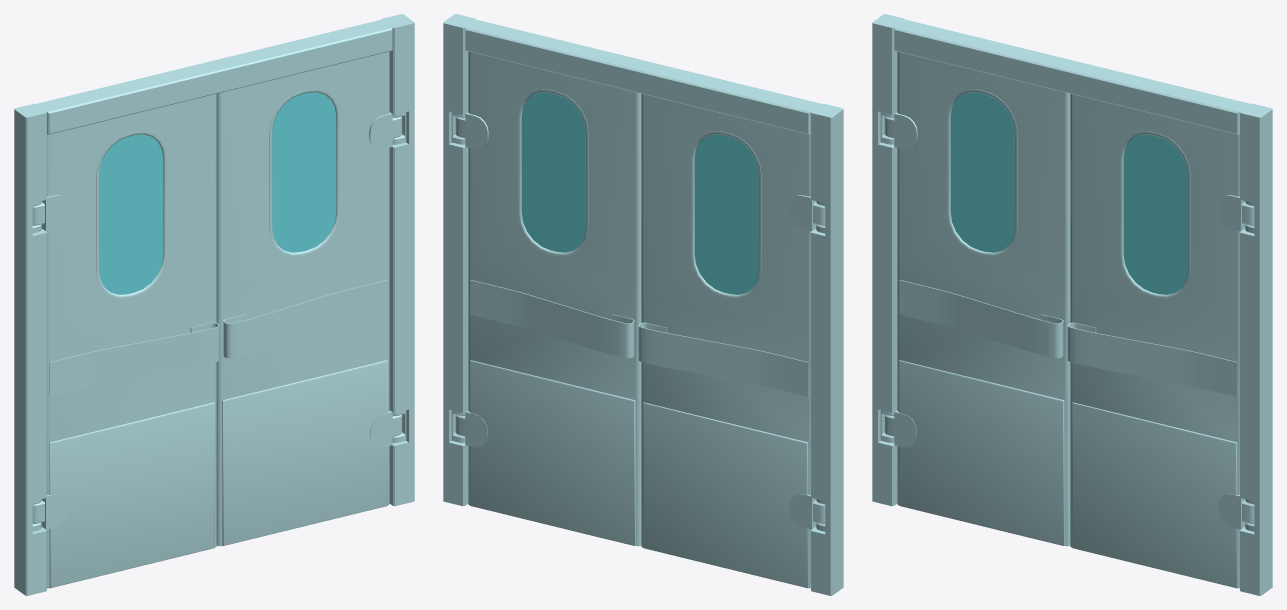
File: kitchen_interior_door_Frame_2.fbx
3 renders of one model, left to right at view 1: azimuth 30°, elevation 25°; view 2: azimuth 150°, elevation 25°; view 3: azimuth 330°, elevation 25°, orthographic.
Visible parts, largest first — view 1: kitchen_interior_door_1_1, kitchen_interior_door_1_2, kitchen_interior_door_Frame_2, kitchen_interior_door_1_2_glass, kitchen_interior_door_1_1_glass; view 2: kitchen_interior_door_1_1, kitchen_interior_door_1_2, kitchen_interior_door_Frame_2, kitchen_interior_door_1_2_glass, kitchen_interior_door_1_1_glass; view 3: kitchen_interior_door_1_2, kitchen_interior_door_1_1, kitchen_interior_door_Frame_2, kitchen_interior_door_1_1_glass, kitchen_interior_door_1_2_glass.
Part boxes in pixels (x1,y1,x2,y2): kitchen_interior_door_1_1: (216,51,402,546); kitchen_interior_door_1_2: (32,94,219,588); kitchen_interior_door_Frame_2: (14,14,414,595); kitchen_interior_door_1_2_glass: (99,134,163,294); kitchen_interior_door_1_1_glass: (272,92,336,252); kitchen_interior_door_1_1: (455,51,641,546); kitchen_interior_door_1_2: (638,94,825,588); kitchen_interior_door_Frame_2: (443,14,843,595); kitchen_interior_door_1_2_glass: (694,134,758,294); kitchen_interior_door_1_1_glass: (521,92,585,252); kitchen_interior_door_1_2: (884,51,1070,546); kitchen_interior_door_1_1: (1067,94,1254,588); kitchen_interior_door_Frame_2: (872,14,1272,595); kitchen_interior_door_1_1_glass: (1123,134,1187,294); kitchen_interior_door_1_2_glass: (950,92,1014,252).
Size of the model in its own units: 176 by 207 by 15.96.
